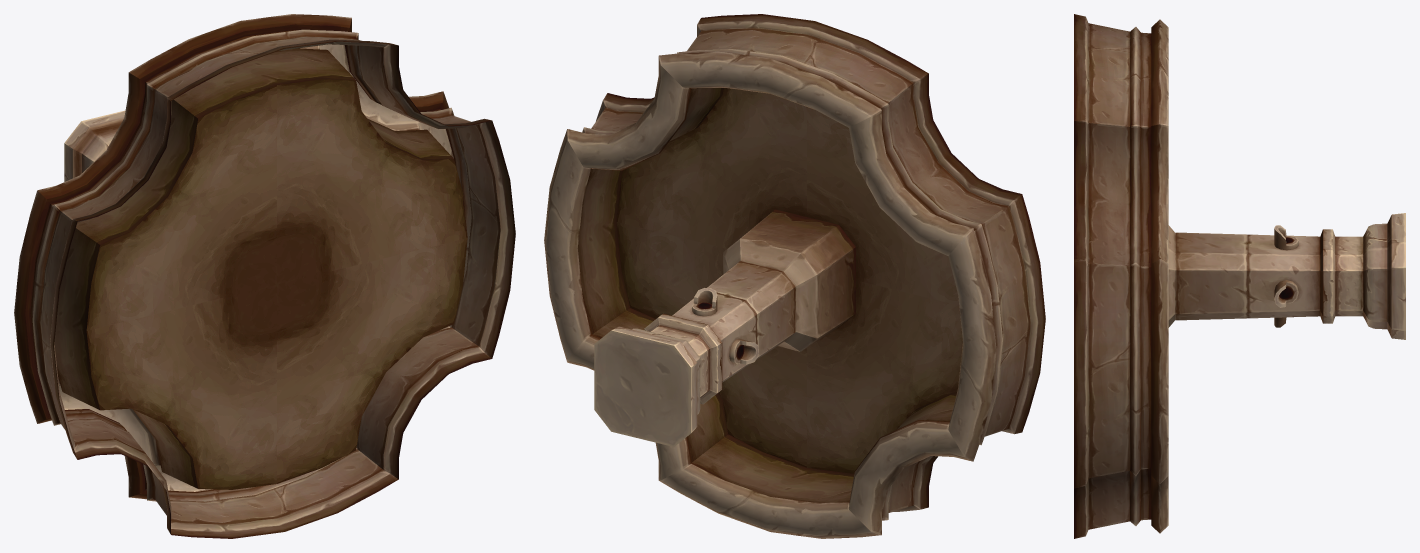
The model's file is mesh_Fountain.FBX.
3 views of the same model, side by side, from view 1: azimuth 30°, elevation 25°; view 2: azimuth 150°, elevation 25°; view 3: azimuth 270°, elevation 25° (orthographic). The views are drawn at different scales.
Parts seen in each view (by area): view 1: mesh_Fountain; view 2: mesh_Fountain; view 3: mesh_Fountain.
Part boxes in pixels (x1,y1,x2,y2): mesh_Fountain: (14, 14, 515, 538); mesh_Fountain: (544, 14, 1045, 538); mesh_Fountain: (1074, 14, 1405, 538).
Bounding box in the file's own units: 680 × 680 × 440.
